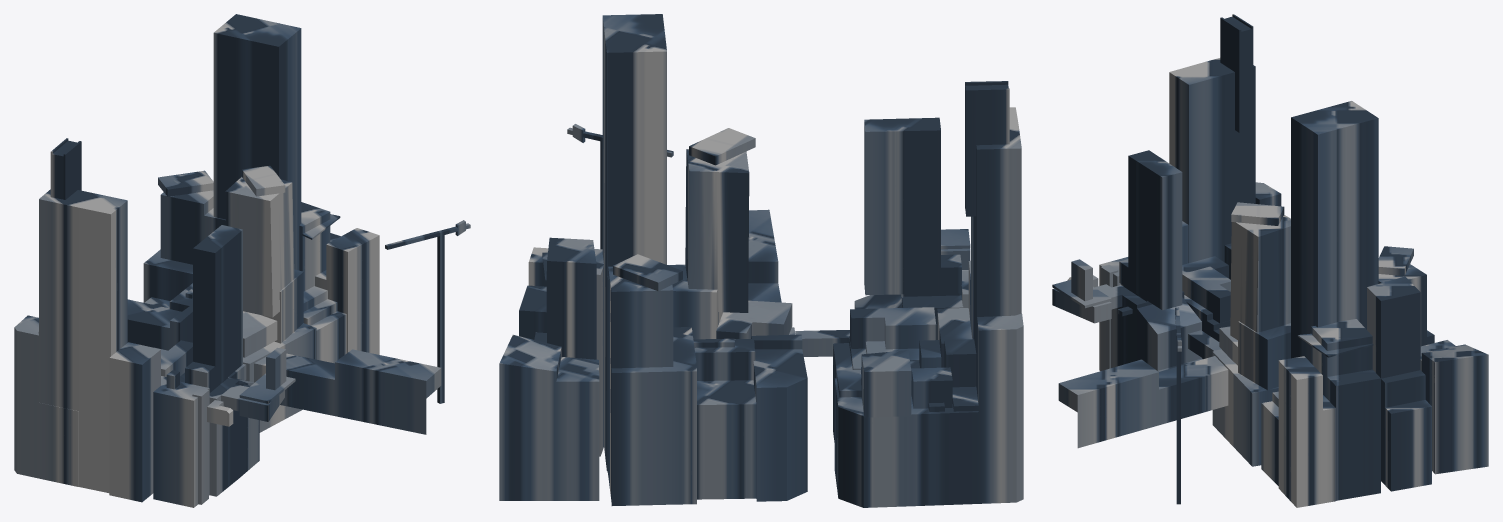
Rendered from ac_eden_village_area03.glb.
3 renders of one model, left to right at view 1: azimuth 30°, elevation 25°; view 2: azimuth 150°, elevation 25°; view 3: azimuth 270°, elevation 25°, orthographic. The views are drawn at different scales.
Visible parts, largest first — view 1: world; view 2: world; view 3: world.
Boxes of the visible parts, x1,y1,x2,y2 form: world: [14, 14, 470, 507]; world: [499, 14, 1023, 507]; world: [1052, 14, 1488, 507].
Size of the model in its own units: 29608 by 23609 by 27378.
Materials: 1 (1 with a texture image).
